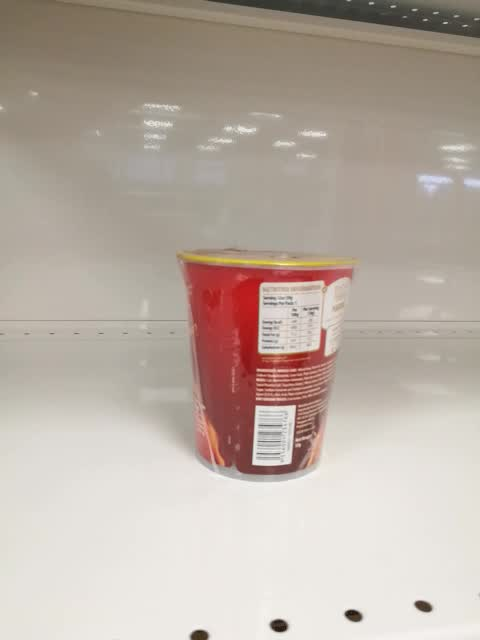maggi: (175, 247, 360, 483)
